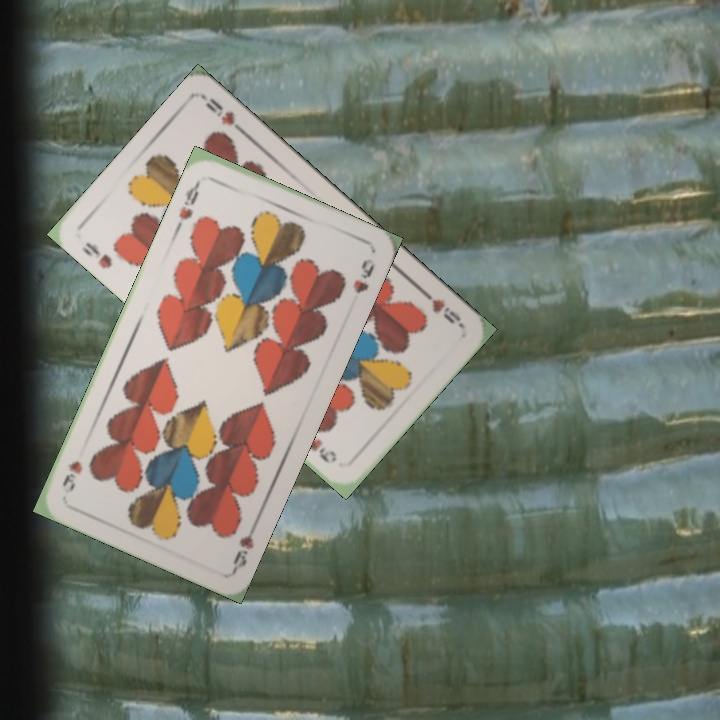H9: (417, 285, 466, 330), (228, 517, 261, 573), (172, 176, 204, 231), (78, 237, 115, 271)
